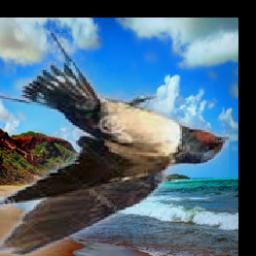Swallow: (0, 33, 229, 256)
